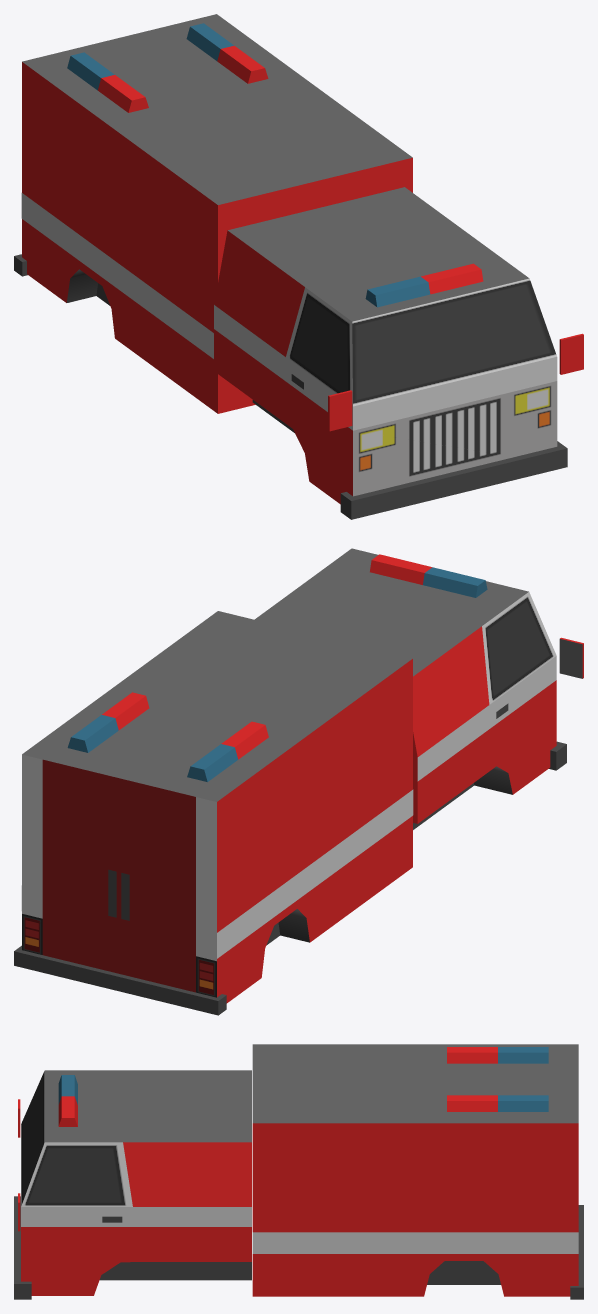
Rendered from car 41.FBX.
The picture shows the model from 3 angles, top to bottom: view 1: azimuth 30°, elevation 25°; view 2: azimuth 150°, elevation 25°; view 3: azimuth 270°, elevation 25°; orthographic projection. The views are drawn at different scales.
Parts seen in each view (by area): view 1: Box531; view 2: Box531; view 3: Box531.
Boxes of the visible parts, left/top/right/bottom form: Box531: left=14, top=14, right=583, bottom=519; Box531: left=14, top=548, right=583, bottom=1015; Box531: left=14, top=1044, right=583, bottom=1299.
Size of the model in its own units: 4.01 by 3.34 by 9.36.
Materials: 1 (1 with a texture image).
